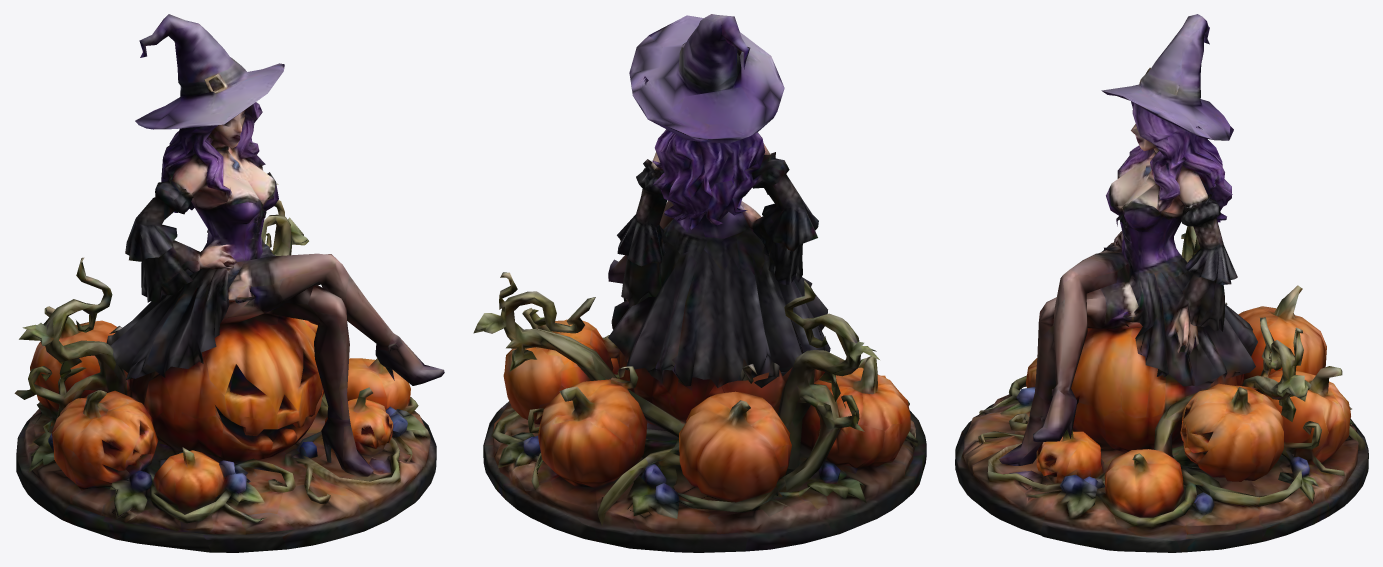
The model's file is witch.glb.
3 views of the same model, side by side, from view 1: azimuth 30°, elevation 25°; view 2: azimuth 150°, elevation 25°; view 3: azimuth 270°, elevation 25° (orthographic). The views are drawn at different scales.
Visible parts, largest first — view 1: tripo_node_5aeb677f-e8a1-4ec3-813e-bf48abd98c8a; view 2: tripo_node_5aeb677f-e8a1-4ec3-813e-bf48abd98c8a; view 3: tripo_node_5aeb677f-e8a1-4ec3-813e-bf48abd98c8a.
Boxes of the visible parts, box(x1,y1,x2,y2) form: tripo_node_5aeb677f-e8a1-4ec3-813e-bf48abd98c8a: box(14, 14, 444, 552); tripo_node_5aeb677f-e8a1-4ec3-813e-bf48abd98c8a: box(473, 14, 926, 552); tripo_node_5aeb677f-e8a1-4ec3-813e-bf48abd98c8a: box(955, 14, 1368, 552).
Bounding box in the file's own units: 0.8526 × 0.9786 × 0.8457.
1 material, 1 textured.
